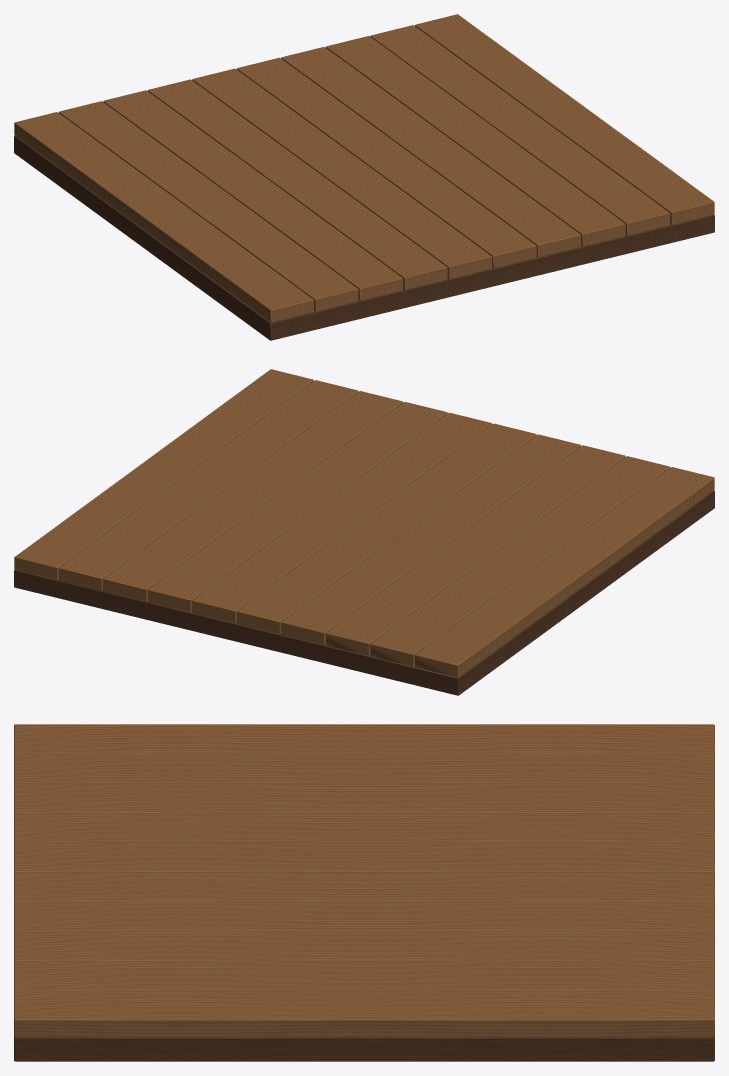
Rendered from floor_wood.gltf.
3 views of the same model, one above another, from view 1: azimuth 30°, elevation 25°; view 2: azimuth 150°, elevation 25°; view 3: azimuth 270°, elevation 25° (orthographic). The views are drawn at different scales.
Bounding box in the file's own units: 1.8 × 0.12 × 1.8.
Materials: 2 (2 with a texture image).
